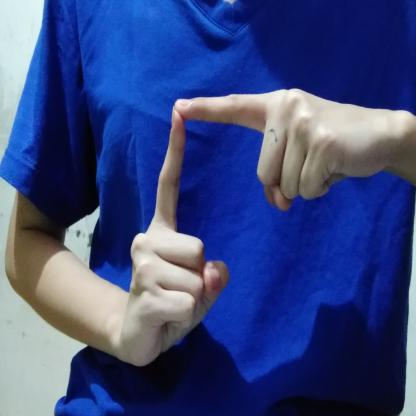when: (112, 85, 416, 374)
